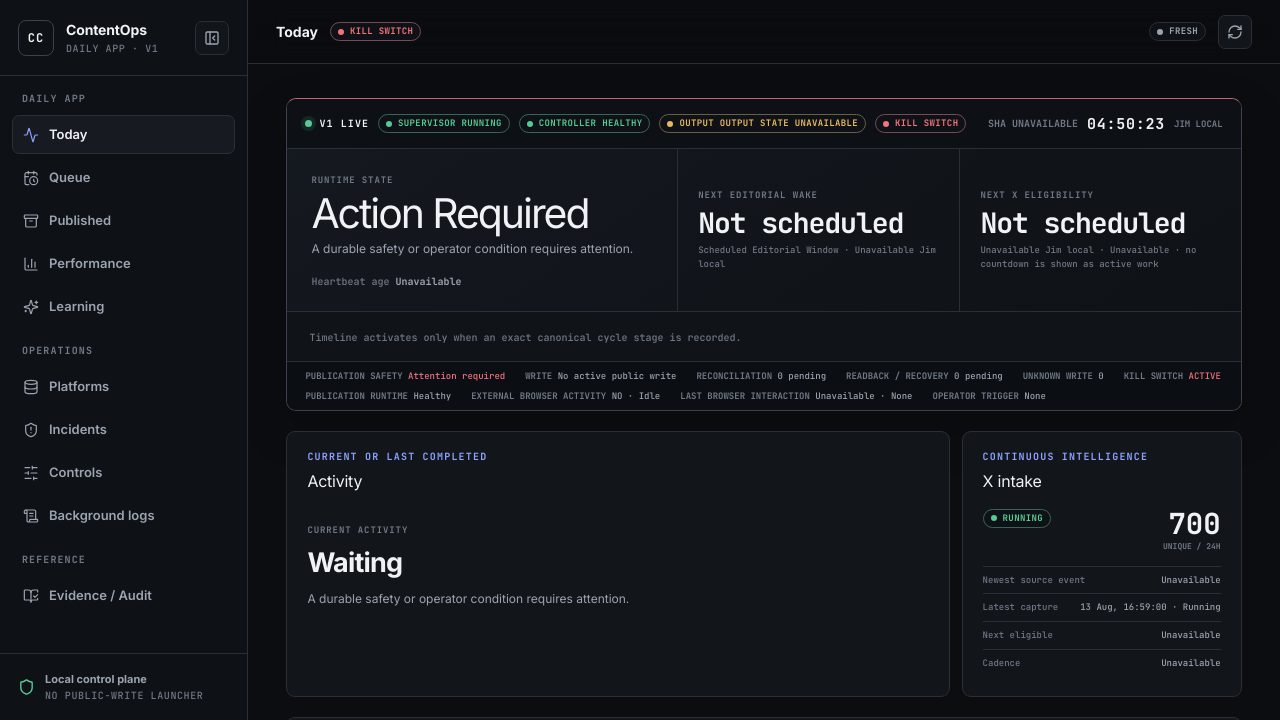
requests only an allowlisted bounded log stream and renders its sanitized tail
What coordinates should you click on to do the following:
click the button "Background logs"
I would click on:
 (124, 516)
Its box is [12,496,235,535].
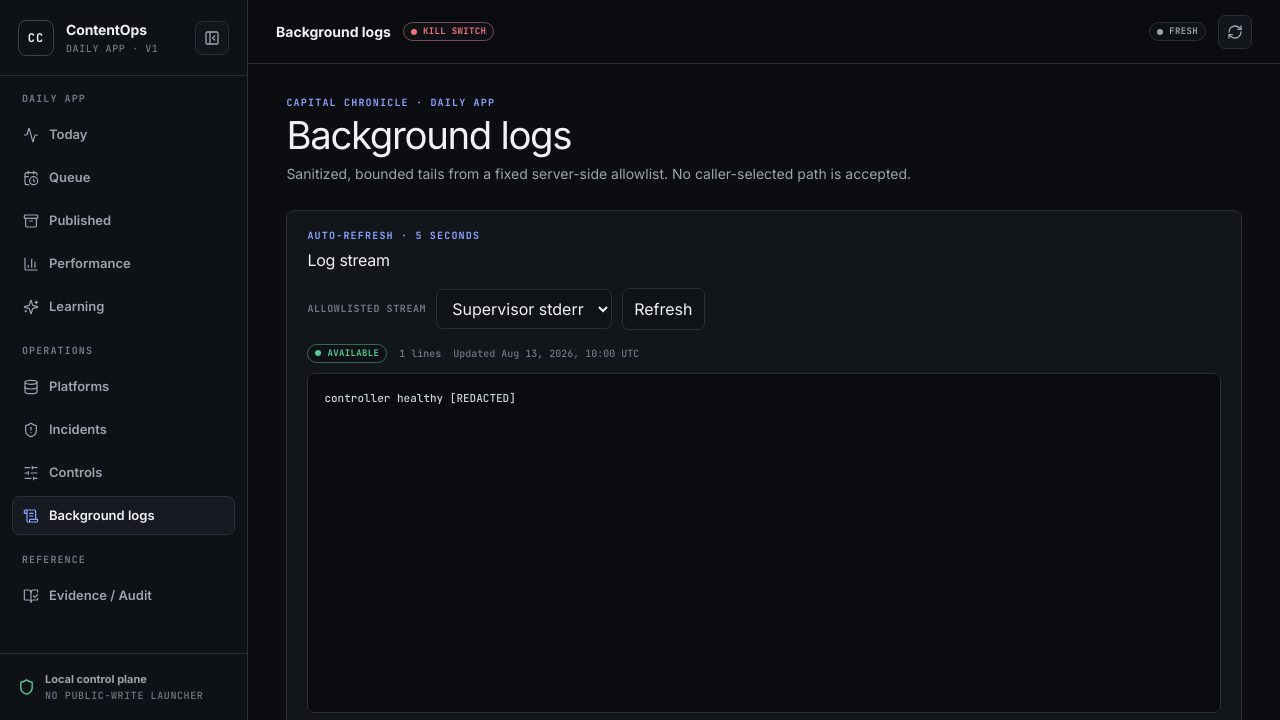
Now the text "controller healthy [REDACTED]" is shown, box [307,373,1221,713]
